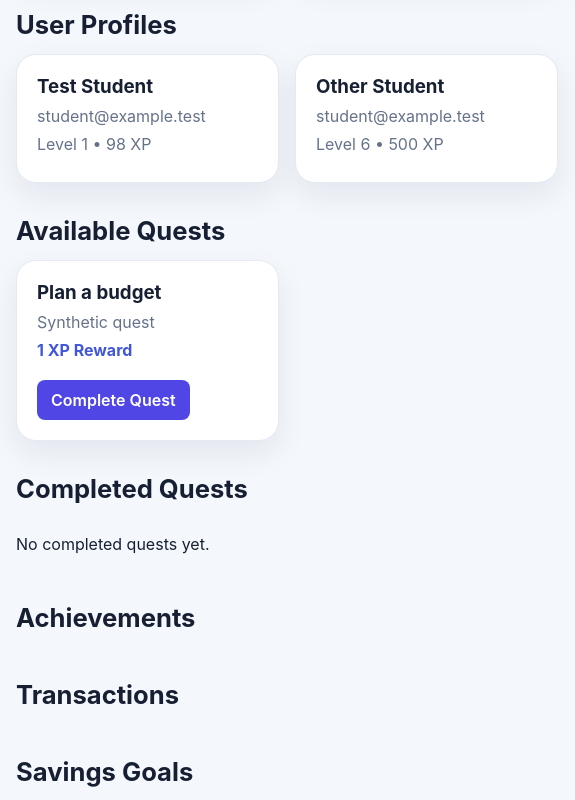
Scenario: App: statements, branches, and collection processing › WB-07 XP 98 / level 1 becomes XP 99 / level 1 after a one-XP quest
(page scrolled)
Click the button "Complete Quest" at (113, 400), box [37,380,190,420]
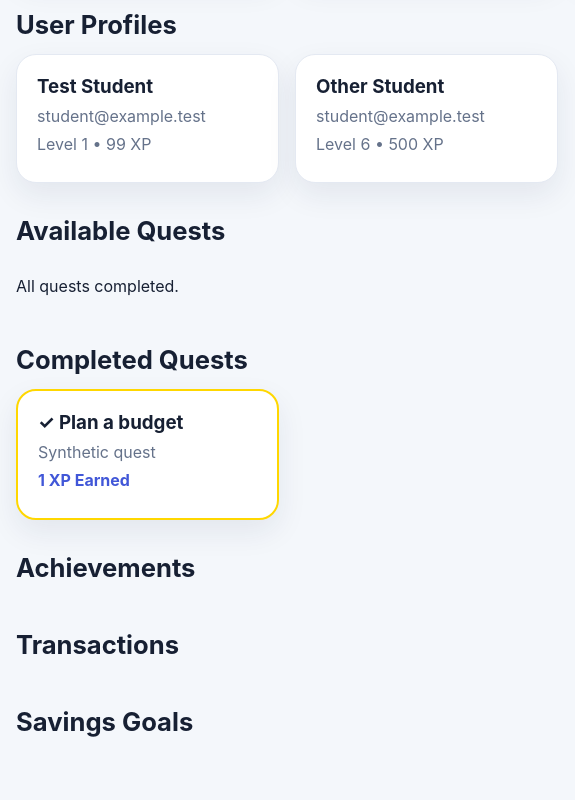
Expected: the element "Other Student" shows "Level 6 • 500 XP", [295,54,558,183]
Now the heading "✓ Plan a budget" is shown, box [38,411,183,434]
Now the button "Complete Quest" is gone
